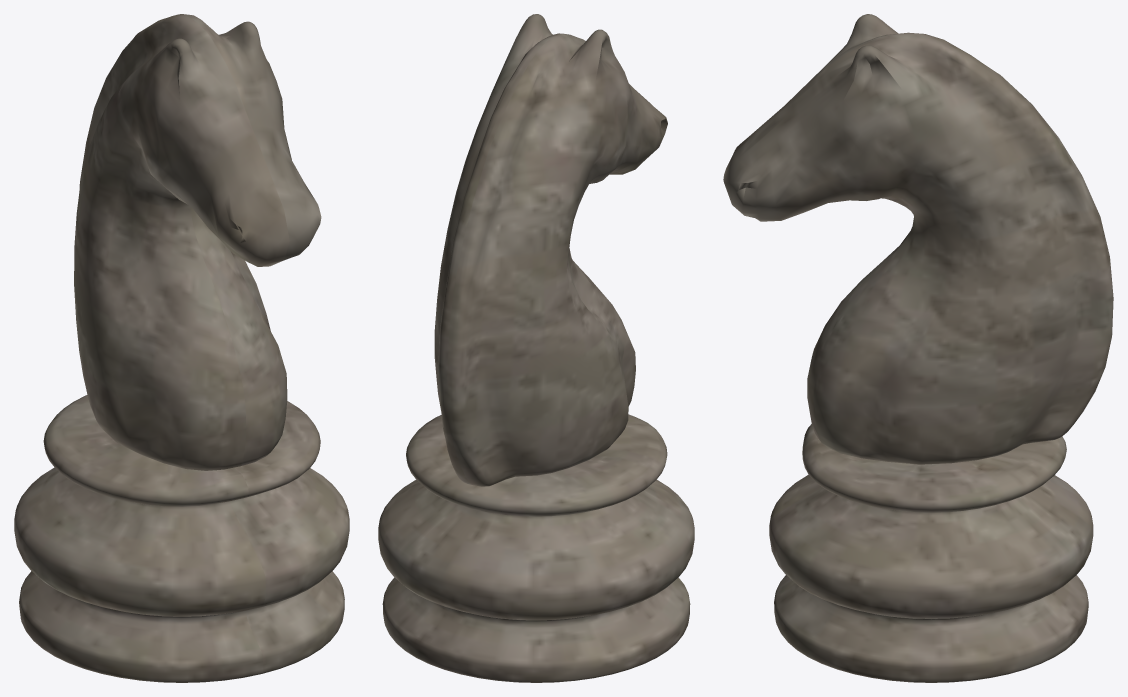
Rendered from knight.m.glb.
The picture shows the model from 3 angles, left to right: view 1: azimuth 30°, elevation 25°; view 2: azimuth 150°, elevation 25°; view 3: azimuth 270°, elevation 25°; orthographic projection. The views are drawn at different scales.
Visible parts, largest first — view 1: Knight_W1; view 2: Knight_W1; view 3: Knight_W1.
Part boxes in pixels (<box>): Knight_W1: <box>14,14,349,682</box>; Knight_W1: <box>378,14,694,682</box>; Knight_W1: <box>723,14,1113,682</box>.
Size of the model in its own units: 0.0274 by 0.055 by 0.0331.
Materials: 1 (1 with a texture image).
